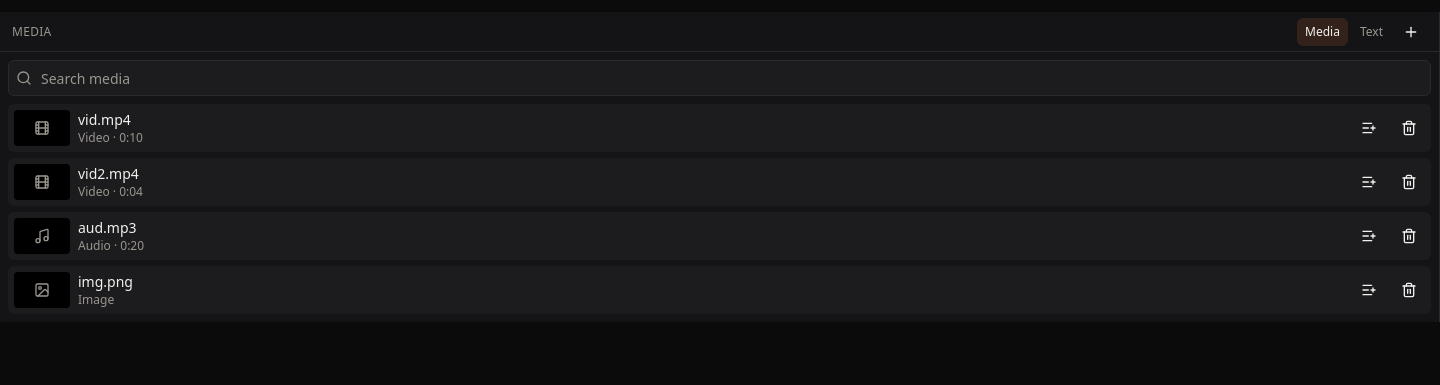
media selection in the library › selects by click, Ctrl/Cmd-click and Shift-click
Click the list item with test id "media-card" showing "vid.mp4 Video · 0:10".
click(720, 128)  # box left=8, top=104, right=1431, bottom=152
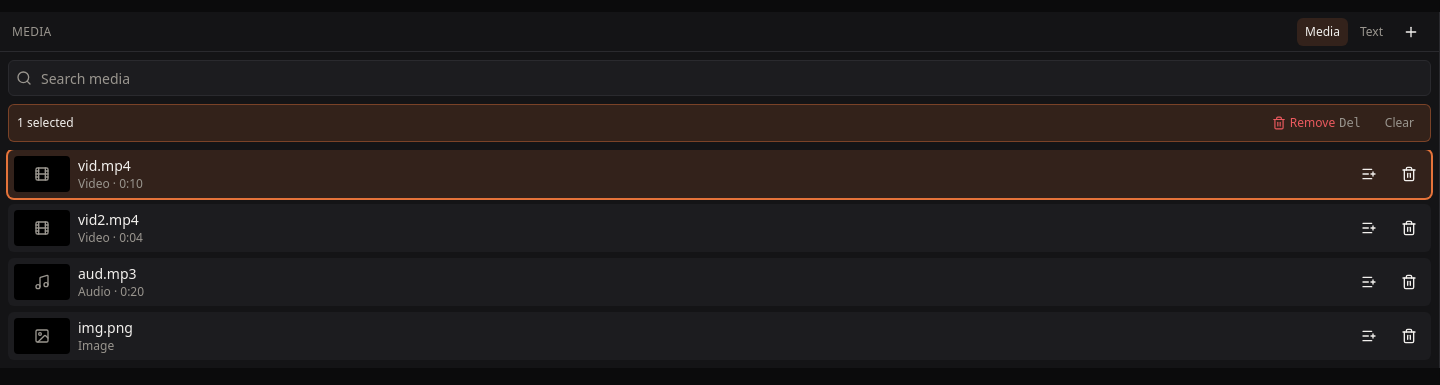
Click the list item with test id "media-card" showing "aud.mp3 Audio · 0:20".
click(720, 282)  # box left=8, top=258, right=1431, bottom=306
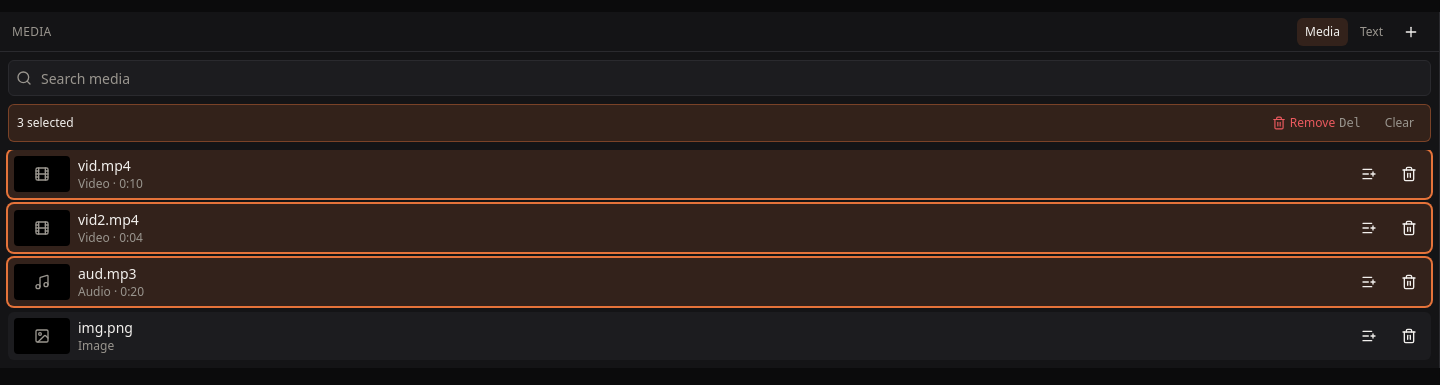
Click the list item with test id "media-card" showing "vid2.mp4 Video · 0:04".
click(720, 228)  # box left=8, top=204, right=1431, bottom=252
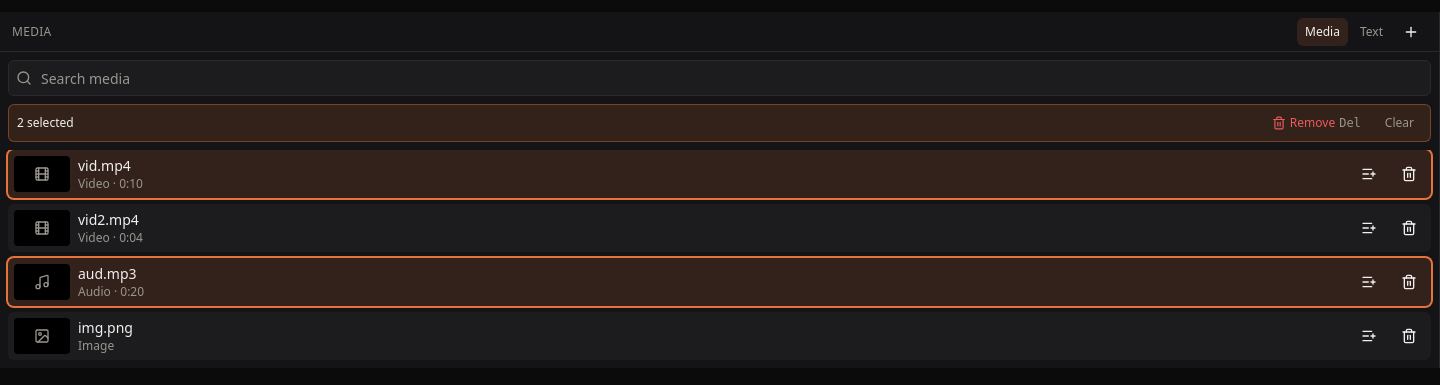
Click the list item with test id "media-card" showing "vid2.mp4 Video · 0:04".
click(720, 228)  # box left=8, top=204, right=1431, bottom=252
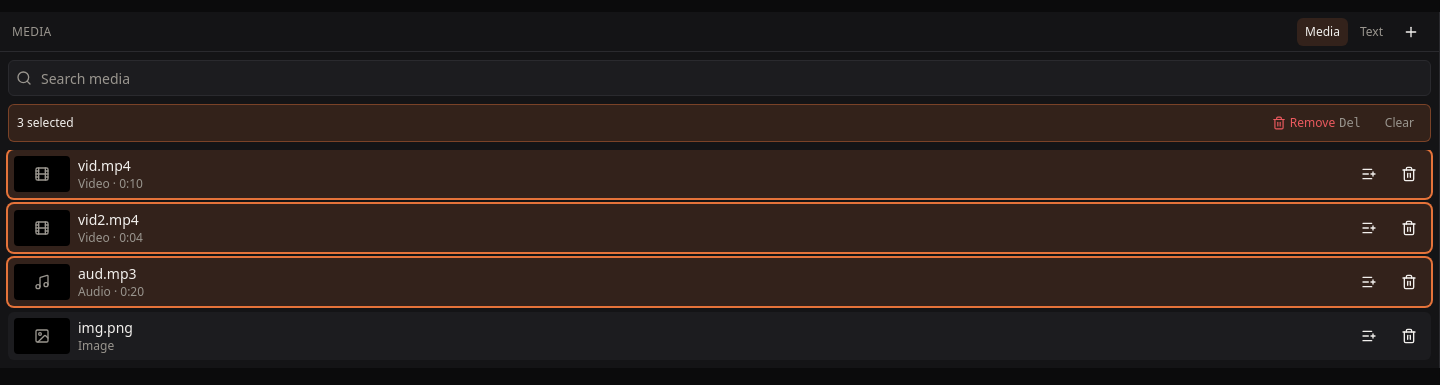
Click the list item with test id "media-card" showing "vid2.mp4 Video · 0:04".
click(720, 228)  # box left=8, top=204, right=1431, bottom=252
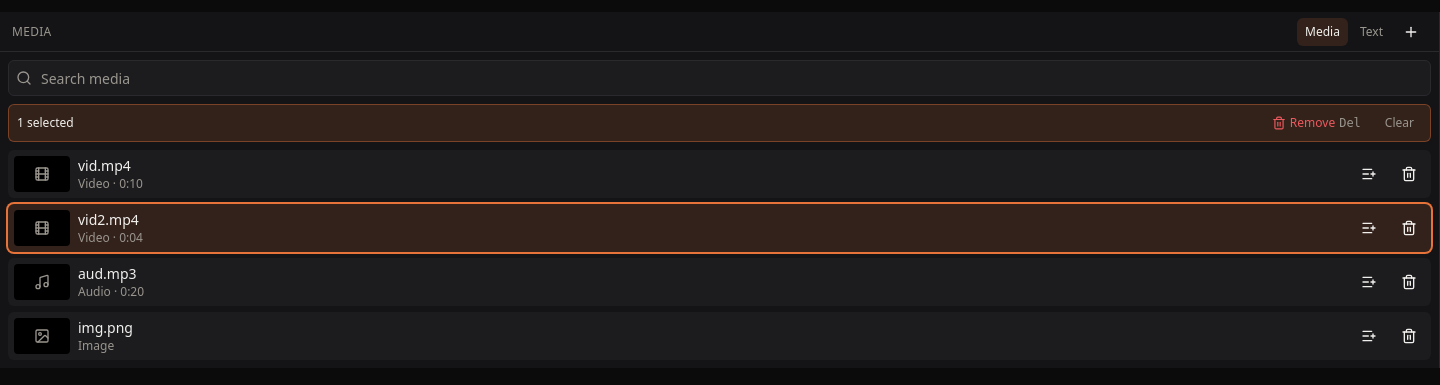
expect the element named "Selected media" shows "1 selected": met, box left=8, top=104, right=1431, bottom=142
